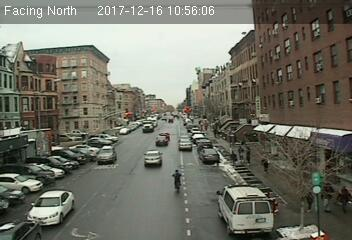bicycle: (171, 168, 184, 195)
car: (27, 191, 74, 223), (144, 149, 162, 168), (95, 147, 116, 163), (198, 148, 219, 163), (177, 139, 194, 151), (156, 135, 168, 146)
police: (214, 182, 276, 237)
